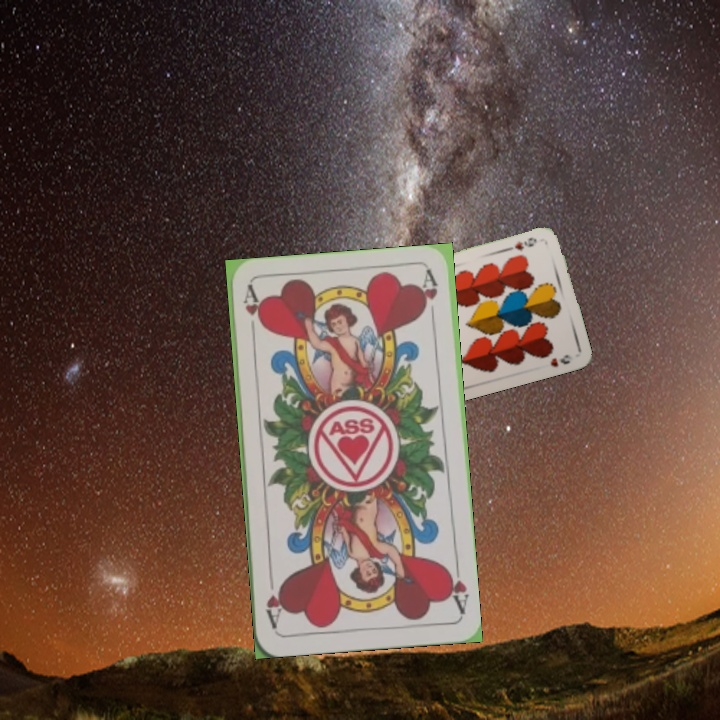H9: (511, 233, 539, 254)
HA: (442, 558, 471, 617), (239, 283, 264, 342)
